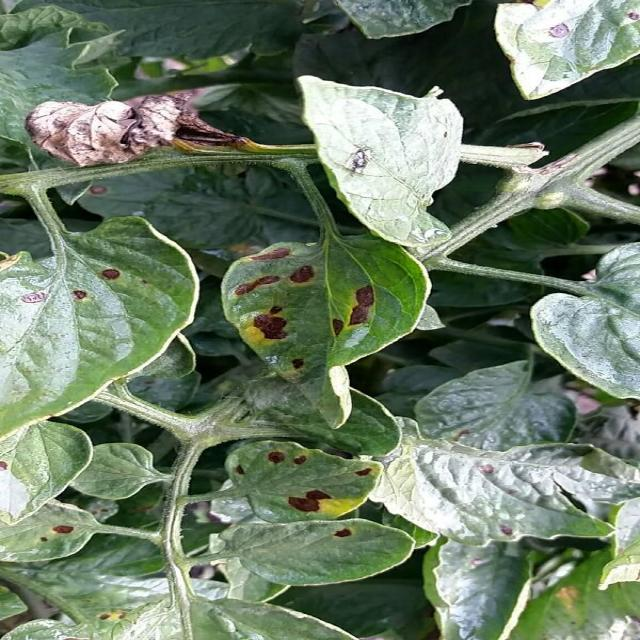Early Blight: (219, 230, 432, 435), (227, 439, 381, 521)
